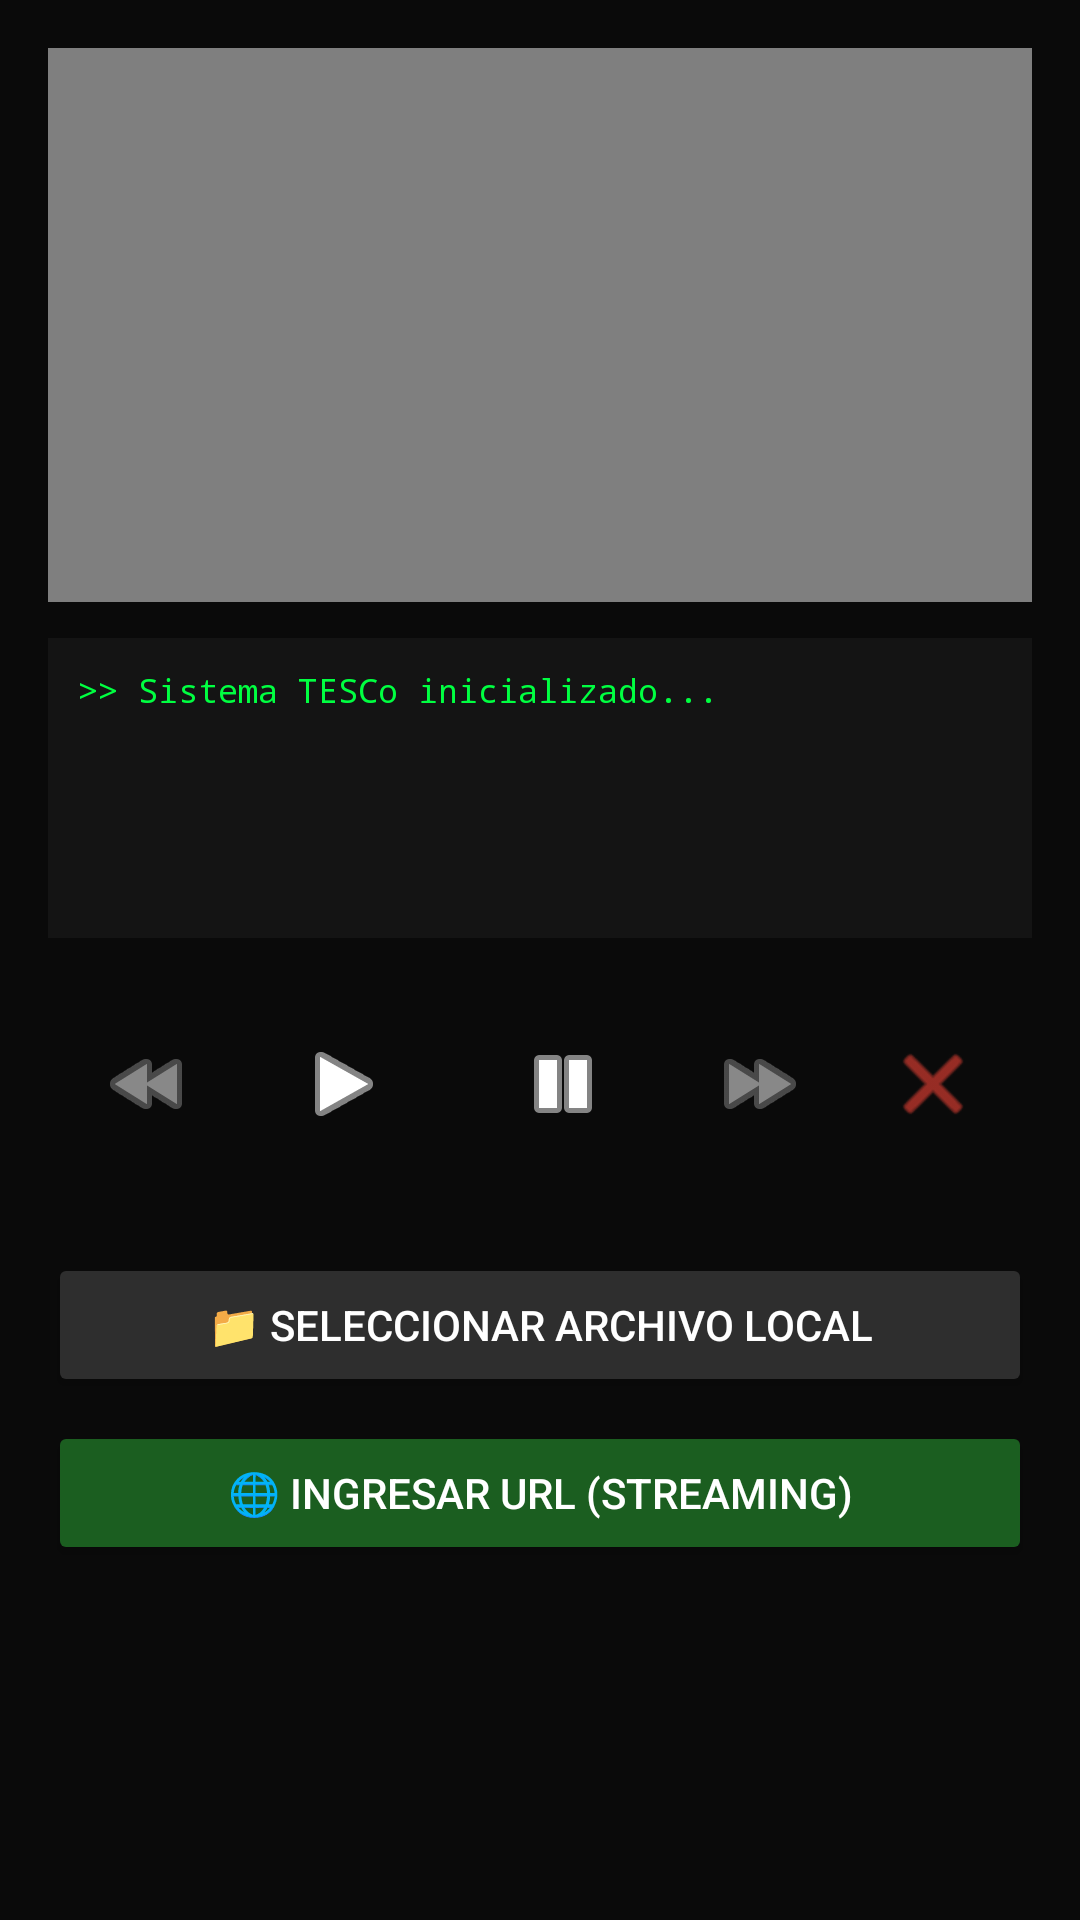

Icons on this 1080px×1920px Android screen, each with its box as (x1, y1, x2, y2):
close clear cancel: (903, 1054, 963, 1114)
pause: (534, 1055, 592, 1113)
play: (315, 1052, 373, 1116)
rew: (110, 1059, 182, 1109)
